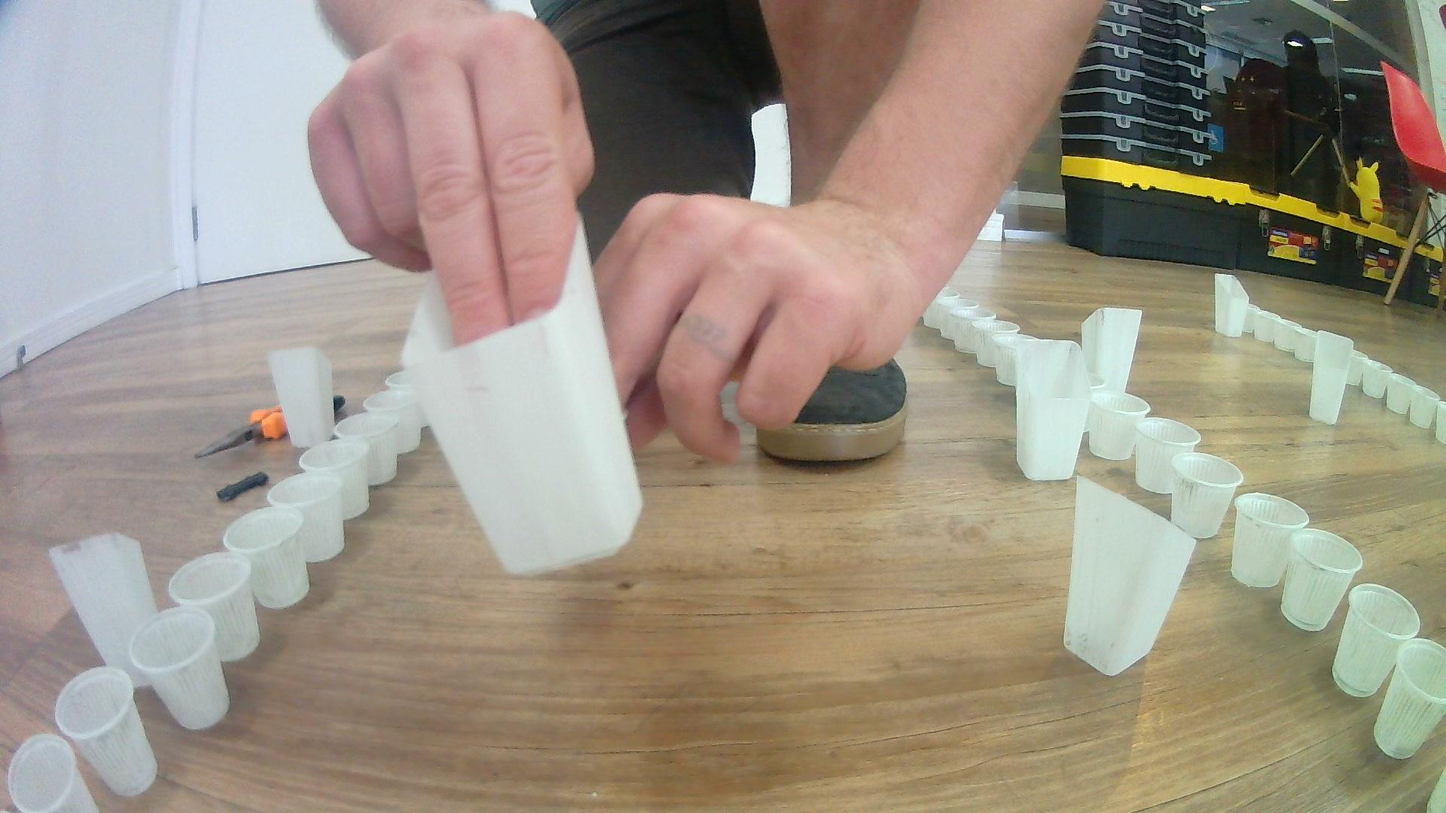erva_daninha: (395, 212, 645, 577), (1063, 474, 1197, 677), (47, 531, 166, 690), (1014, 337, 1093, 481), (264, 344, 337, 450), (1081, 306, 1142, 395), (1309, 330, 1355, 426), (1213, 273, 1249, 337)
planta: (125, 603, 232, 731), (56, 665, 158, 799), (166, 552, 261, 663), (1330, 583, 1421, 698), (221, 506, 310, 609), (1371, 639, 1446, 760), (1279, 528, 1364, 633), (1231, 492, 1310, 589), (7, 733, 102, 813), (267, 473, 346, 564), (1169, 452, 1245, 540), (299, 439, 371, 522), (1135, 417, 1203, 495), (334, 411, 399, 487), (1088, 392, 1152, 461), (361, 388, 422, 456), (991, 333, 1040, 387), (383, 369, 426, 424), (971, 321, 1021, 368), (953, 308, 997, 354), (939, 299, 979, 339), (1386, 373, 1423, 415), (923, 290, 960, 329), (1409, 386, 1442, 429), (1362, 360, 1394, 400), (1274, 319, 1305, 352), (1293, 328, 1321, 361), (1348, 350, 1371, 389), (1258, 312, 1286, 343), (1245, 304, 1269, 339), (1084, 374, 1106, 396), (1435, 403, 1446, 444)
